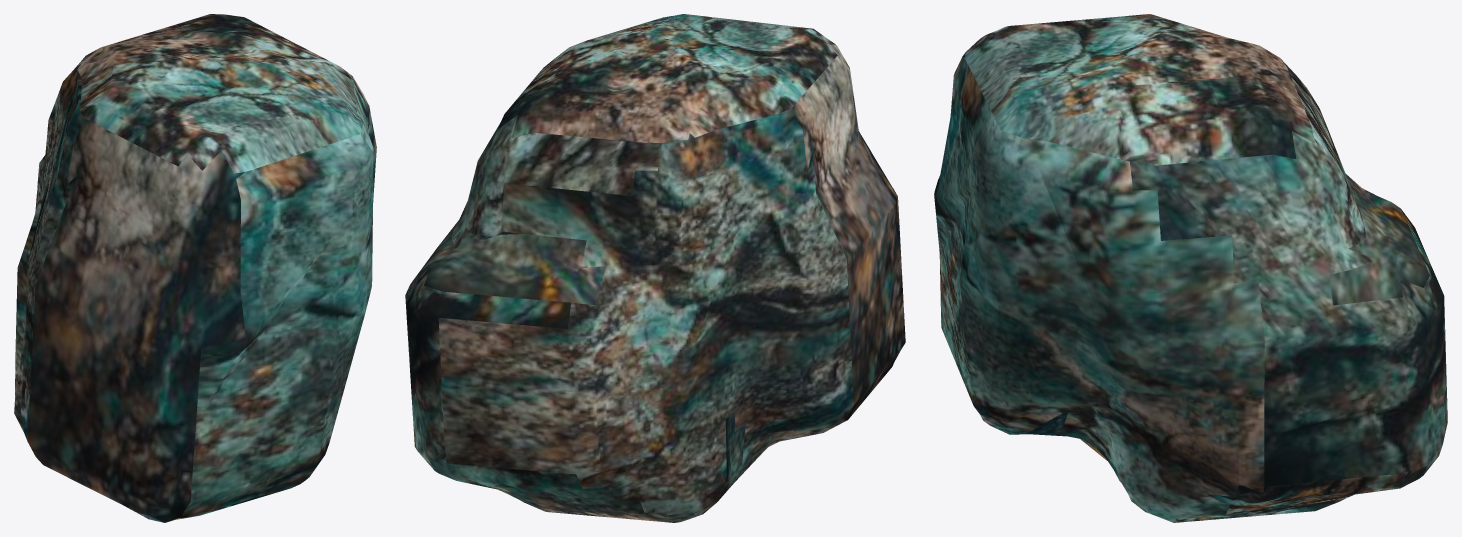
Rendered from med2.glb.
3 renders of one model, left to right at view 1: azimuth 30°, elevation 25°; view 2: azimuth 150°, elevation 25°; view 3: azimuth 270°, elevation 25°, orthographic. The views are drawn at different scales.
Visible parts, largest first — view 1: дом.007; view 2: дом.007; view 3: дом.007.
Boxes of the visible parts, bbox=[...] form: дом.007: bbox=[14, 14, 376, 522]; дом.007: bbox=[405, 14, 905, 522]; дом.007: bbox=[934, 14, 1447, 522].
Size of the model in its own units: 0.4956 by 0.566 by 0.6053.
Materials: 1 (1 with a texture image).
